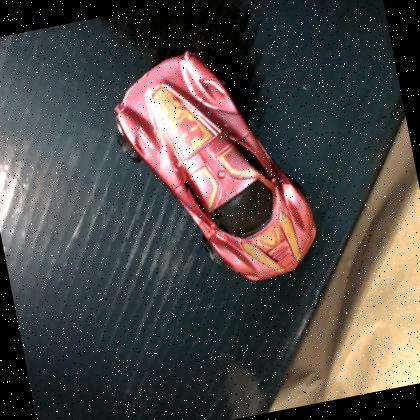Car: (100, 32, 326, 306)
